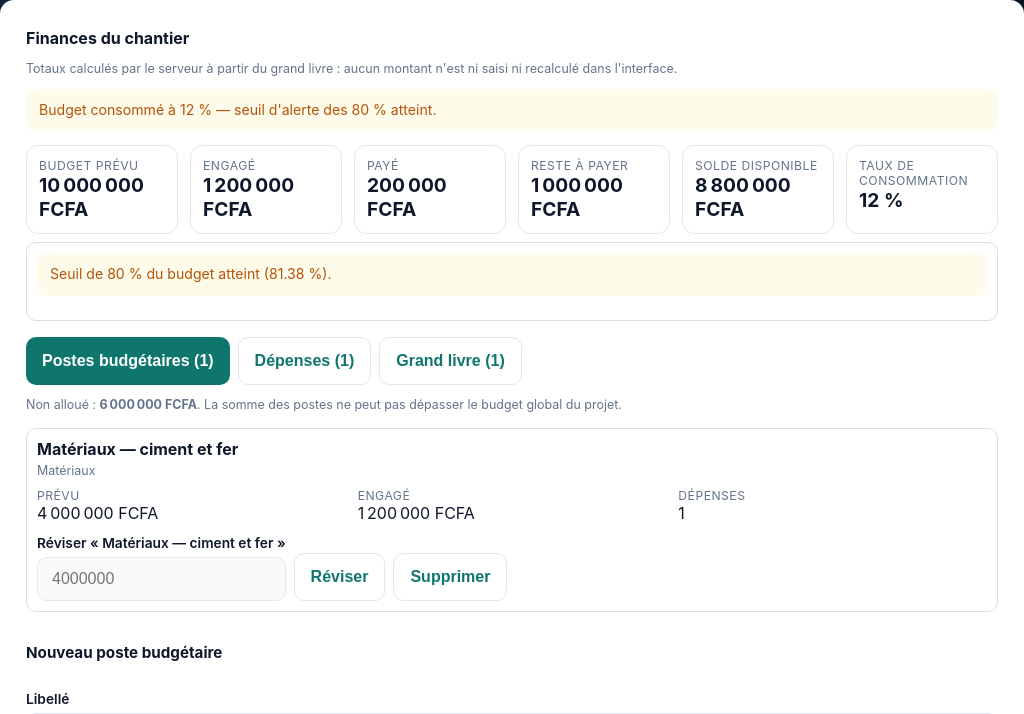
Test: ProjectFinance › affiche les alertes de seuil et le grand livre avec le solde après opération
The image size is (1024, 714).
Check: the text "Seuil de 80 % du budget atteint (81.38 %)." is shown, box [37, 253, 987, 296]
Click the tab "Grand livre (1)" at (450, 360), box [379, 336, 522, 384]
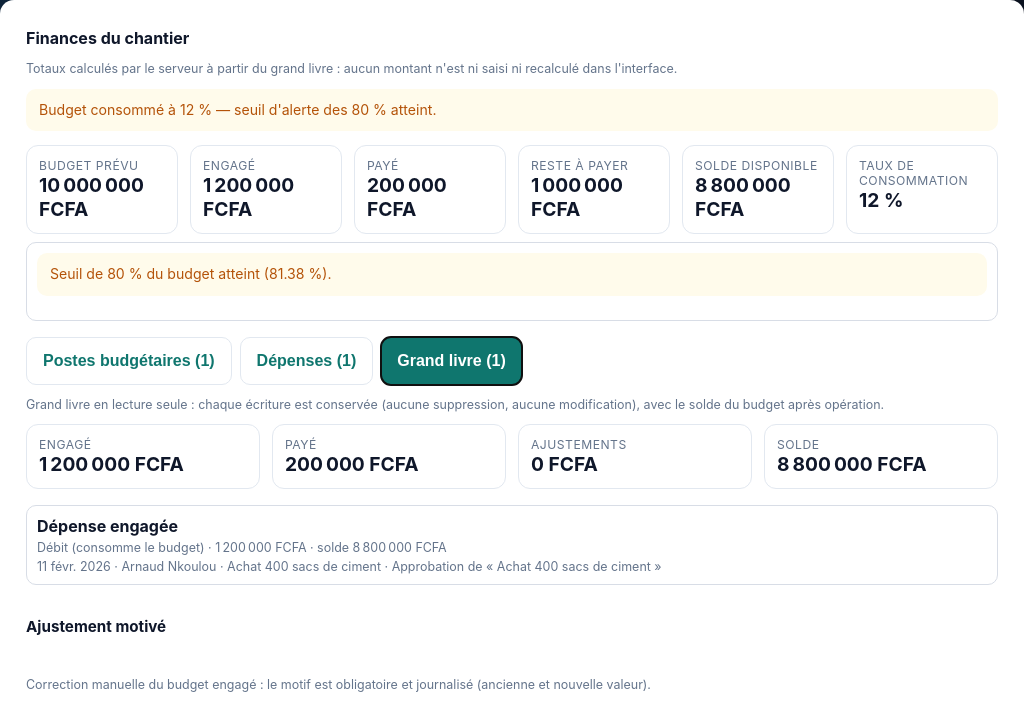
Check: the text "Dépense engagée" is shown, box [37, 516, 178, 536]
Check: the text "solde 8 800 000 FCFA" is shown, box [37, 540, 447, 556]
Check: the text "Approbation de" is shown, box [381, 560, 662, 574]
